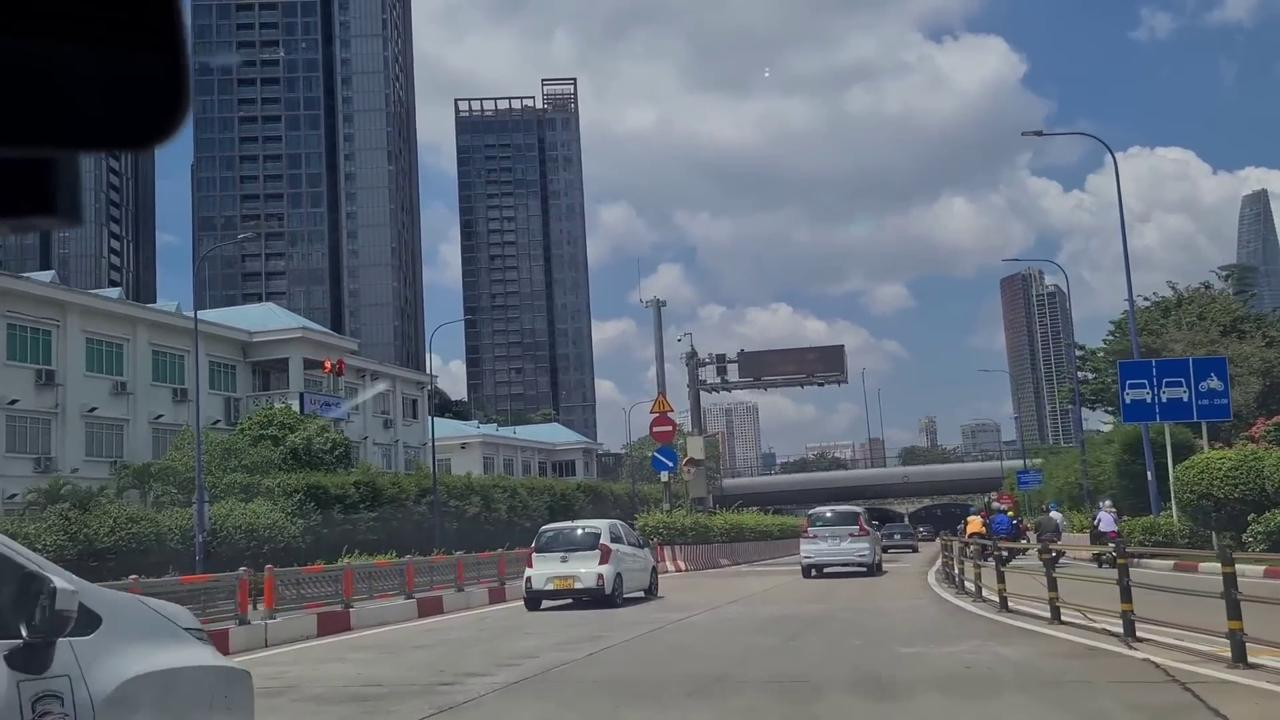Cấm đi ngược chiều: (648, 414, 680, 444)
Hướng phải đi vòng sang phải: (649, 444, 678, 474)
Làn đường cho từng xe: (1114, 354, 1234, 424)
Đuờng hẹp: (648, 392, 675, 415)
